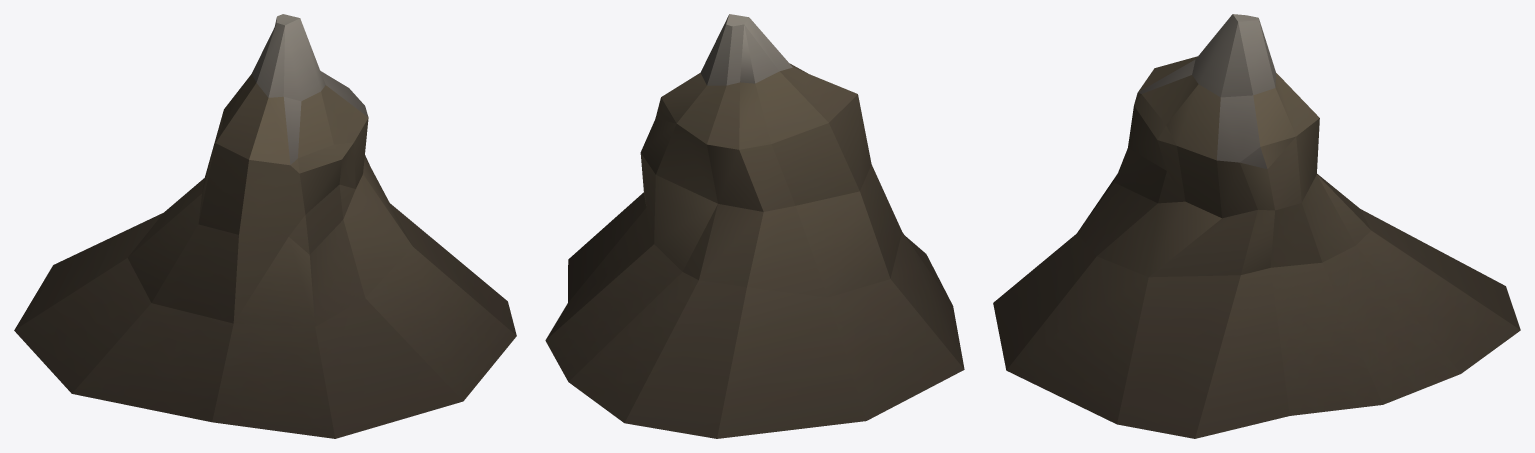
File: Mountain_A.fbx
3 renders of one model, left to right at view 1: azimuth 30°, elevation 25°; view 2: azimuth 150°, elevation 25°; view 3: azimuth 270°, elevation 25°, orthographic. The views are drawn at different scales.
Parts seen in each view (by area): view 1: Mountain_A; view 2: Mountain_A; view 3: Mountain_A.
Part boxes in pixels (x1,y1,x2,y2): Mountain_A: (14,14,516,438); Mountain_A: (545,14,964,438); Mountain_A: (993,14,1520,438).
Size of the model in its own units: 4949 by 3513 by 5201.
